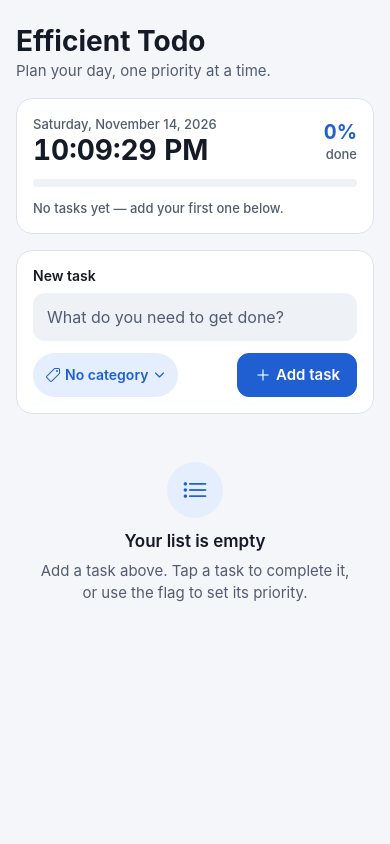
Test case: App › adds a task and persists it
Check: the text "Your list is empty" is shown, box 124,530 -> 266,552
Step 1. Type "Write the README" into the field named "New task" → (195, 317), box 33,293 -> 357,341
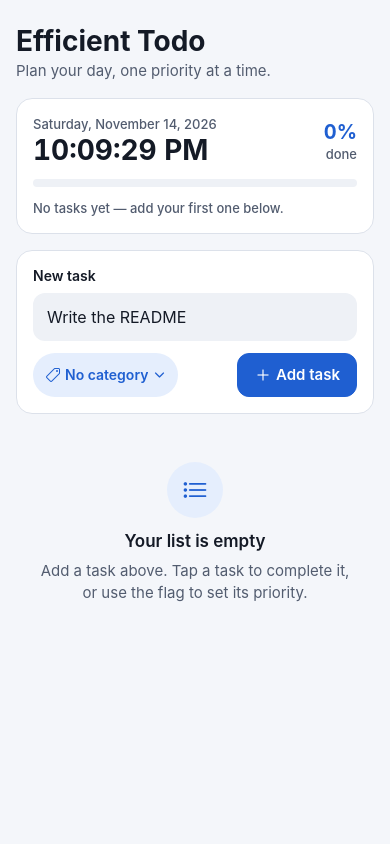
Step 2. Click the button "Add task" → (297, 375), box 237,353 -> 357,397
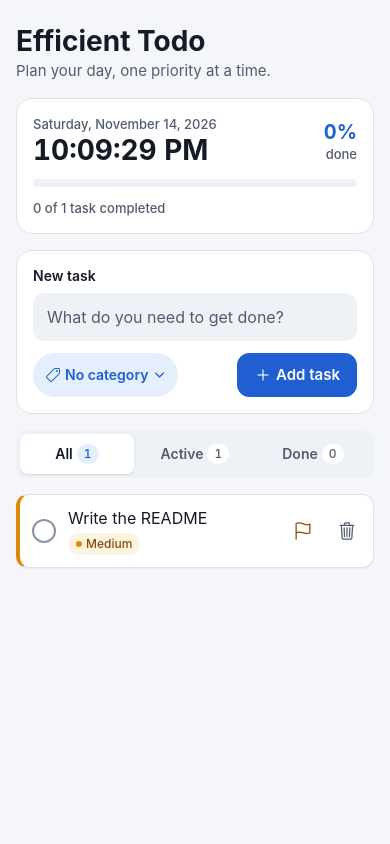
Check: the text "Write the README" is shown, box 68,508 -> 207,528
